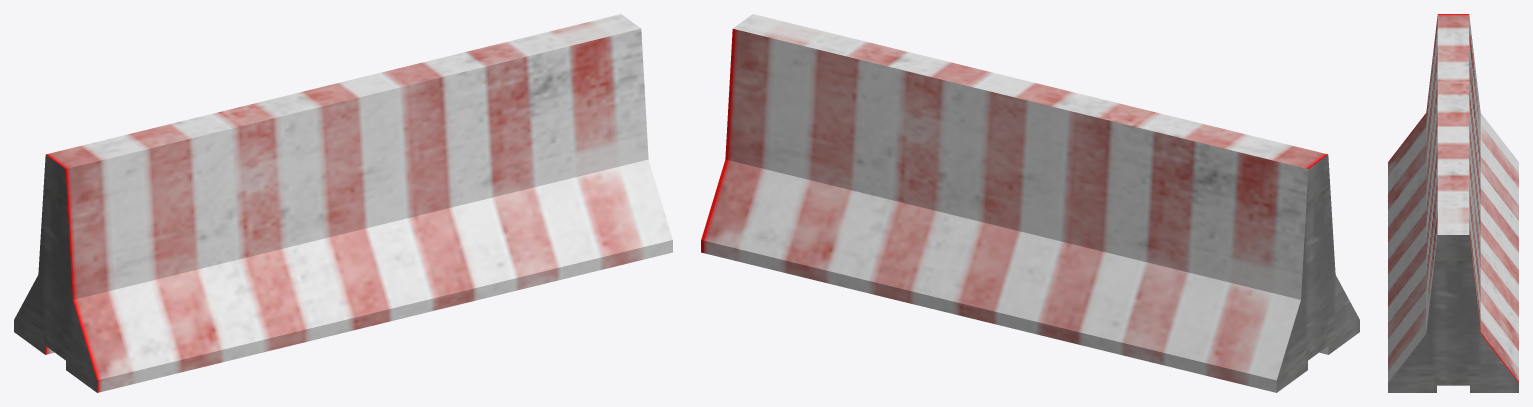
File: barier_3.fbx
The picture shows the model from 3 angles, left to right: view 1: azimuth 30°, elevation 25°; view 2: azimuth 150°, elevation 25°; view 3: azimuth 270°, elevation 25°; orthographic projection. The views are drawn at different scales.
Parts seen in each view (by area): view 1: Barricada_Concreto__7; view 2: Barricada_Concreto__7; view 3: Barricada_Concreto__7.
Part boxes in pixels (x1=…): Barricada_Concreto__7: x1=14, y1=14, x2=672, y2=392; Barricada_Concreto__7: x1=701, y1=14, x2=1359, y2=392; Barricada_Concreto__7: x1=1388, y1=14, x2=1518, y2=392.
Size of the model in its own units: 124 by 41.37 by 31.03.
